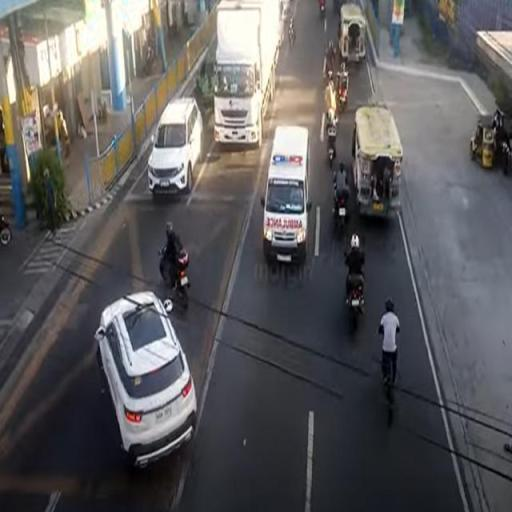Police car: (260, 118, 312, 268)
